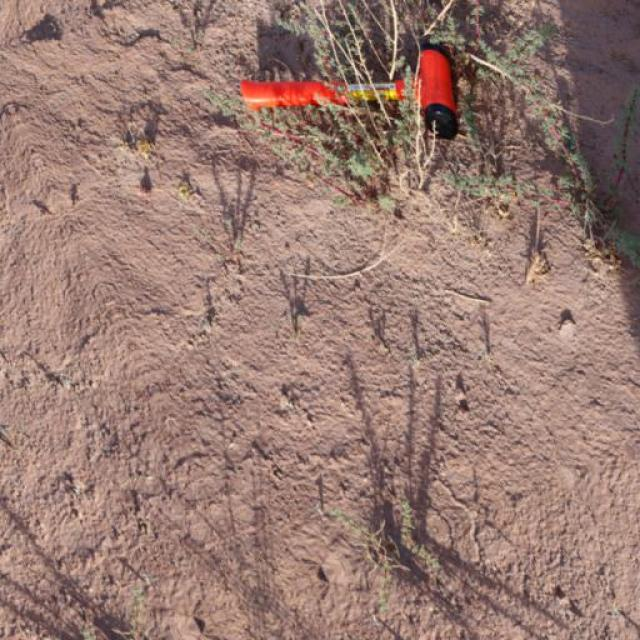mallet: (238, 39, 462, 140)
